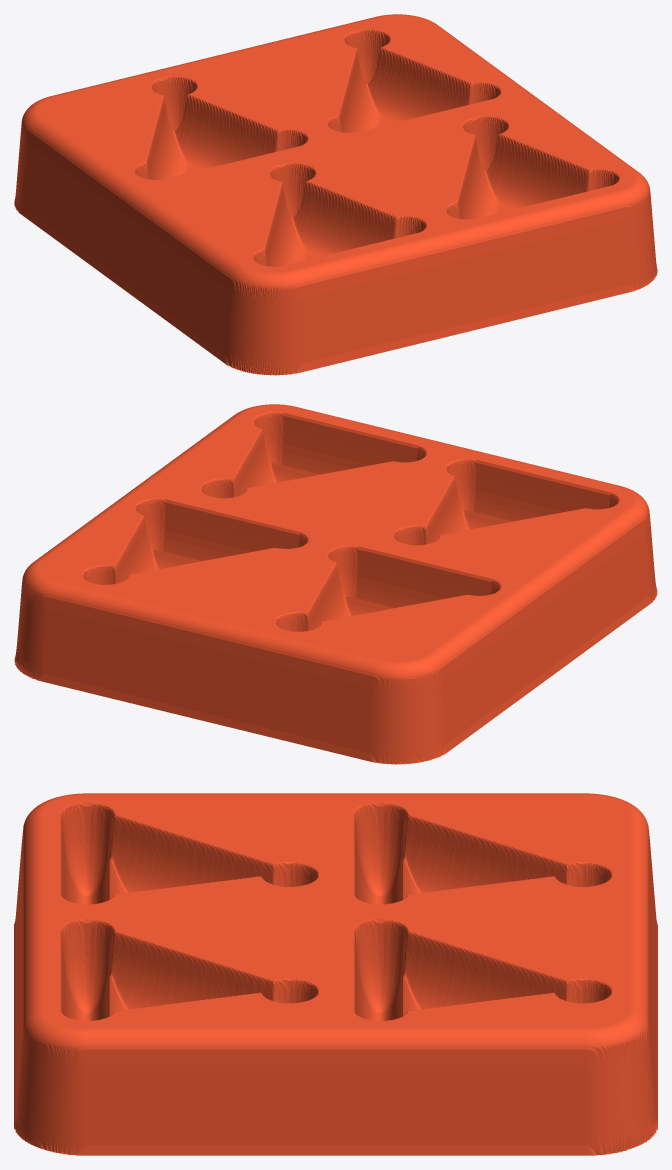
The model's file is mold.glb.
3 renders of one model, top to bottom at view 1: azimuth 30°, elevation 25°; view 2: azimuth 150°, elevation 25°; view 3: azimuth 270°, elevation 25°, orthographic. The views are drawn at different scales.
Parts seen in each view (by area): view 1: geometry_0; view 2: geometry_0; view 3: geometry_0.
Part boxes in pixels (bbox=[...]): geometry_0: bbox=[14, 14, 657, 375]; geometry_0: bbox=[14, 404, 657, 764]; geometry_0: bbox=[14, 793, 657, 1155].
Bounding box in the file's own units: 0.0764 × 0.0159 × 0.0808.
